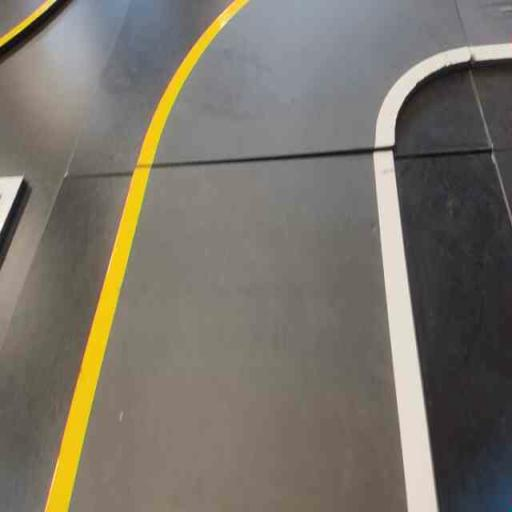straight: (39, 160, 443, 508)
